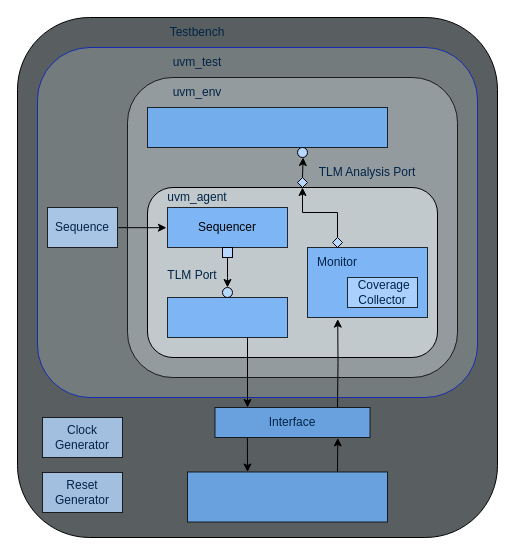
This 515x555 diagram has some shape labels left out. The box of each missing label's shape, as (x1, y1, x2, y2) in pixels:
Driver: (166, 296, 288, 338)
DUT: (186, 471, 388, 522)
Scoreboard: (146, 106, 388, 148)
